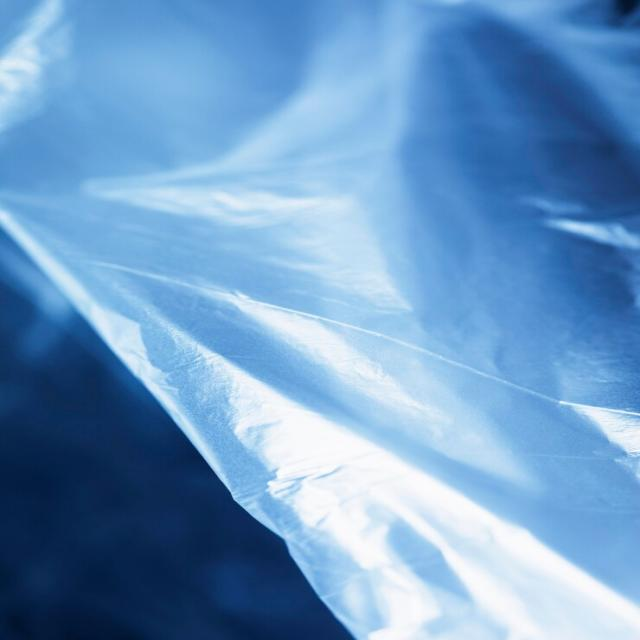plastic_bag: (17, 0, 640, 640)
